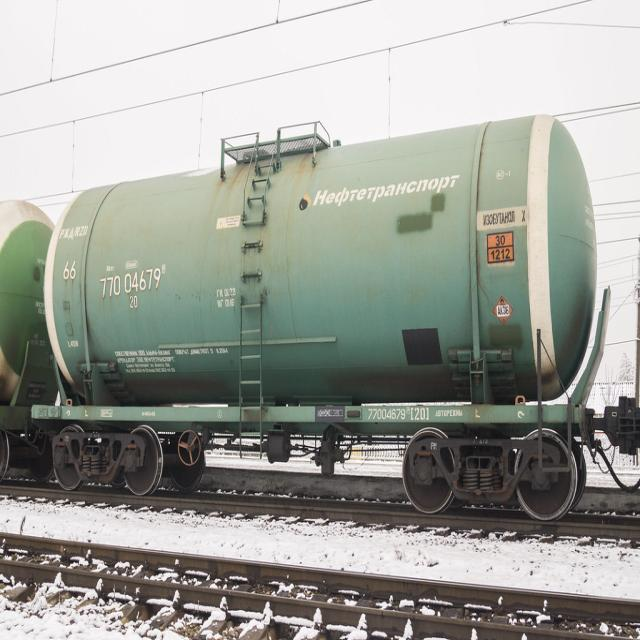Cart: (404, 427, 586, 520), (50, 422, 205, 502)
Coupling: (584, 400, 640, 495), (23, 404, 47, 458)
Tank car: (44, 110, 598, 404)
